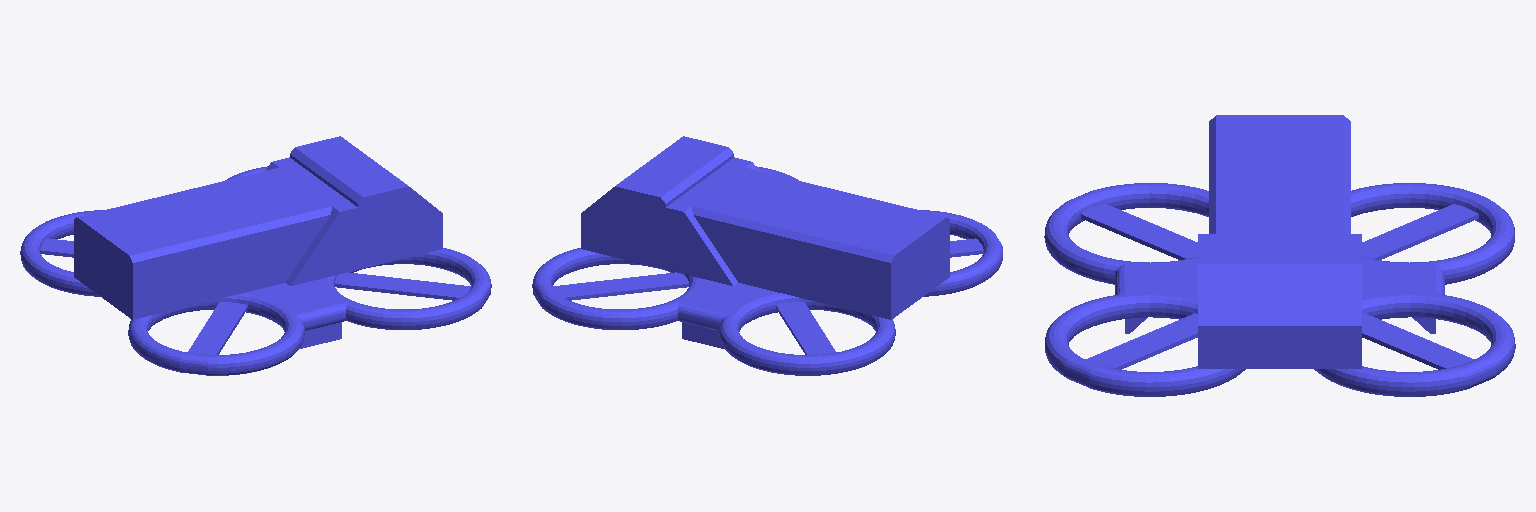
robot.urdf — Avatar:
<?xml version="1.0" encoding="utf-8"?>
<!-- This URDF was automatically created by SolidWorks to URDF Exporter! Originally created by [author] ([email redacted]) 
     Commit Version: 1.6.0-4-g7f85cfe  Build Version: 1.6.7995.38578
     For more information, please see http://wiki.ros.org/sw_urdf_exporter -->
<robot
  name="Avatar">

<link name="base_footprint">
    <visual>
        <origin xyz="0 0 0" rpy="0 0 0" />
        <geometry>
            <box size="0.001 0.001 0.001" />
        </geometry>
    </visual>
</link>
        
<joint name="base_footprint_joint" type="fixed">
    <origin xyz="0 0 0" rpy="0 0 0" />        
    <parent link="base_footprint"/>
    <child link="base_link" />
</joint>

  <link
    name="base_link">
    <inertial>
      <origin
        xyz="-0.17283 -0.059477 0.10769"
        rpy="0 0 0" />
      <mass
        value="0.57712" />
      <inertia
        ixx="0.0015401"
        ixy="-4.6365E-07"
        ixz="6.3728E-10"
        iyy="0.00061714"
        iyz="-3.967E-06"
        izz="0.0020663" />
    </inertial>
    <visual>
      <origin
        xyz="0.06 -0.169 -0.08"
        rpy="0 0 -1.5707963267948966" />
      <geometry>
        <mesh
          filename="package://uav_simulator/meshes/base_link.STL" />
      </geometry>
      <material
        name="grey_blue">
        <color
          rgba="0.4 0.4 1.0 1" />
      </material>
    </visual>
    <collision>
      <origin
        xyz="0 0 0"
        rpy="0 0 0" />
      <geometry>
        <mesh
          filename="package://uav_simulator/meshes/base_link.STL" />
      </geometry>
    </collision>
  </link>
</robot>

--- What the picture shows (computed from the rendered views, not written in the file) ---
The picture shows the robot from 3 angles, left to right: view 1: azimuth 30°, elevation 25°; view 2: azimuth 150°, elevation 25°; view 3: azimuth 270°, elevation 25°; orthographic projection.
Model Avatar with 2 links and 1 joints (1 fixed), rooted at base_footprint, posed every joint at zero.
Links seen in each view (by area): view 1: base_link; view 2: base_link; view 3: base_link.
Boxes of the visible links, <box> form: base_link: <box>20,136,491,375</box>; base_link: <box>532,136,1002,375</box>; base_link: <box>1044,115,1515,396</box>.
Size in the robot's own frame: 0.2 by 0.2 by 0.06 metres.
1 mesh visuals loaded from 1 distinct referenced files (1 binary STL).